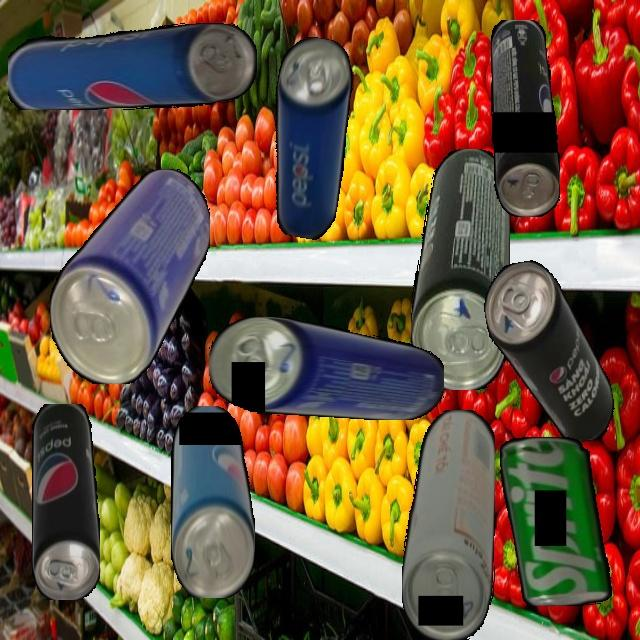debris: (49, 168, 210, 384), (478, 251, 619, 454), (209, 316, 444, 420), (410, 148, 510, 390), (252, 33, 365, 242), (7, 23, 257, 110), (401, 409, 495, 640), (500, 436, 613, 606), (170, 405, 255, 598), (490, 19, 560, 217), (31, 403, 100, 600)
